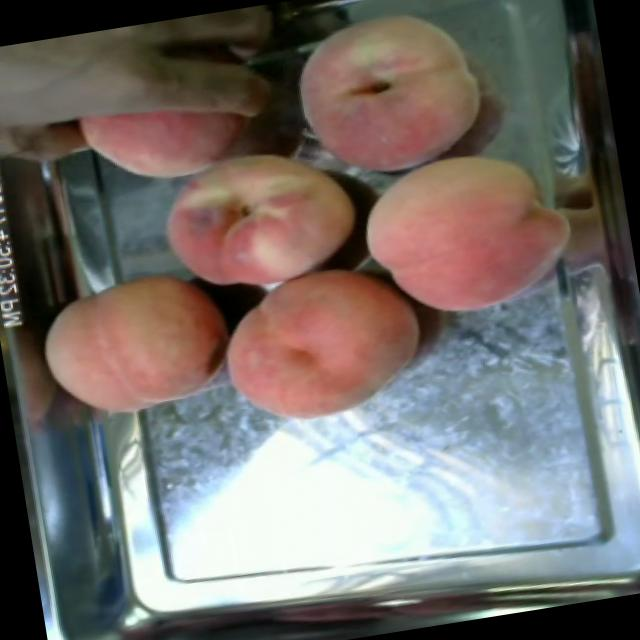Fruit: (344, 125, 588, 338), (272, 0, 503, 201), (205, 257, 442, 443), (140, 121, 374, 303), (23, 258, 243, 437), (78, 82, 262, 202)
